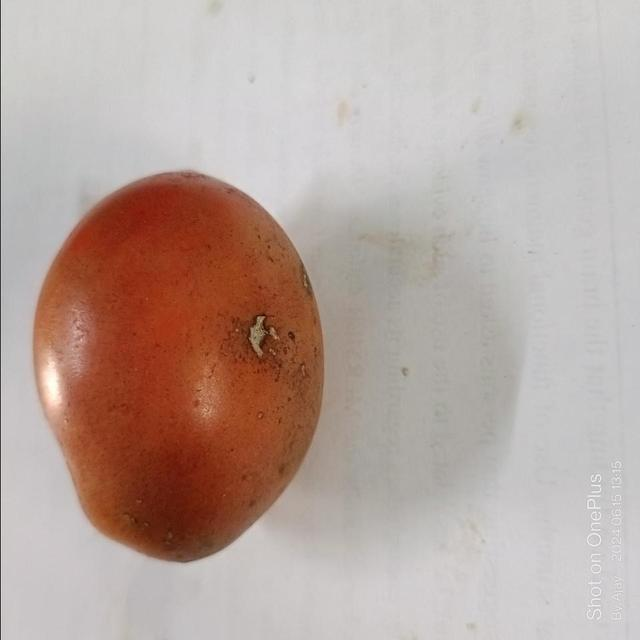Bacterial Spot Fruit: (163, 207, 182, 241)
